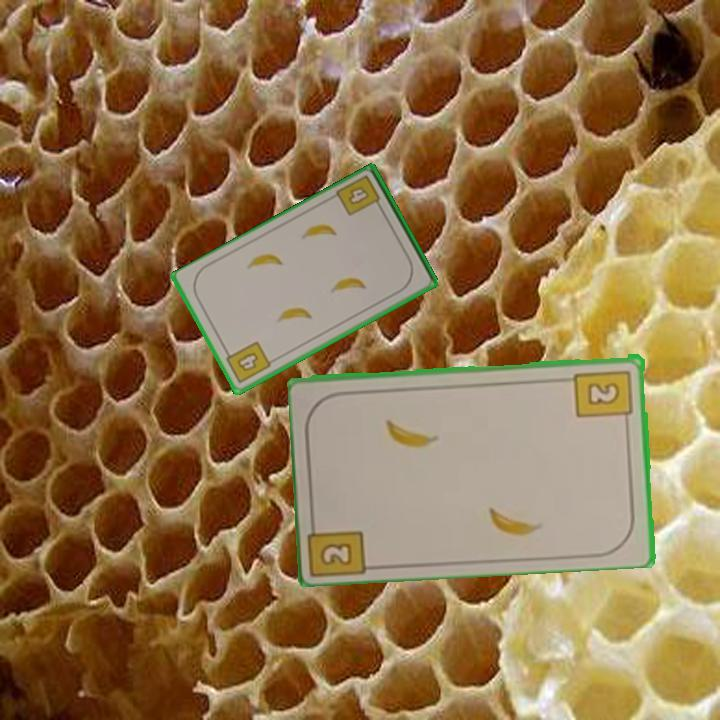2b: (308, 512, 372, 577), (572, 366, 635, 427)
4b: (221, 338, 274, 386), (333, 172, 385, 219)
